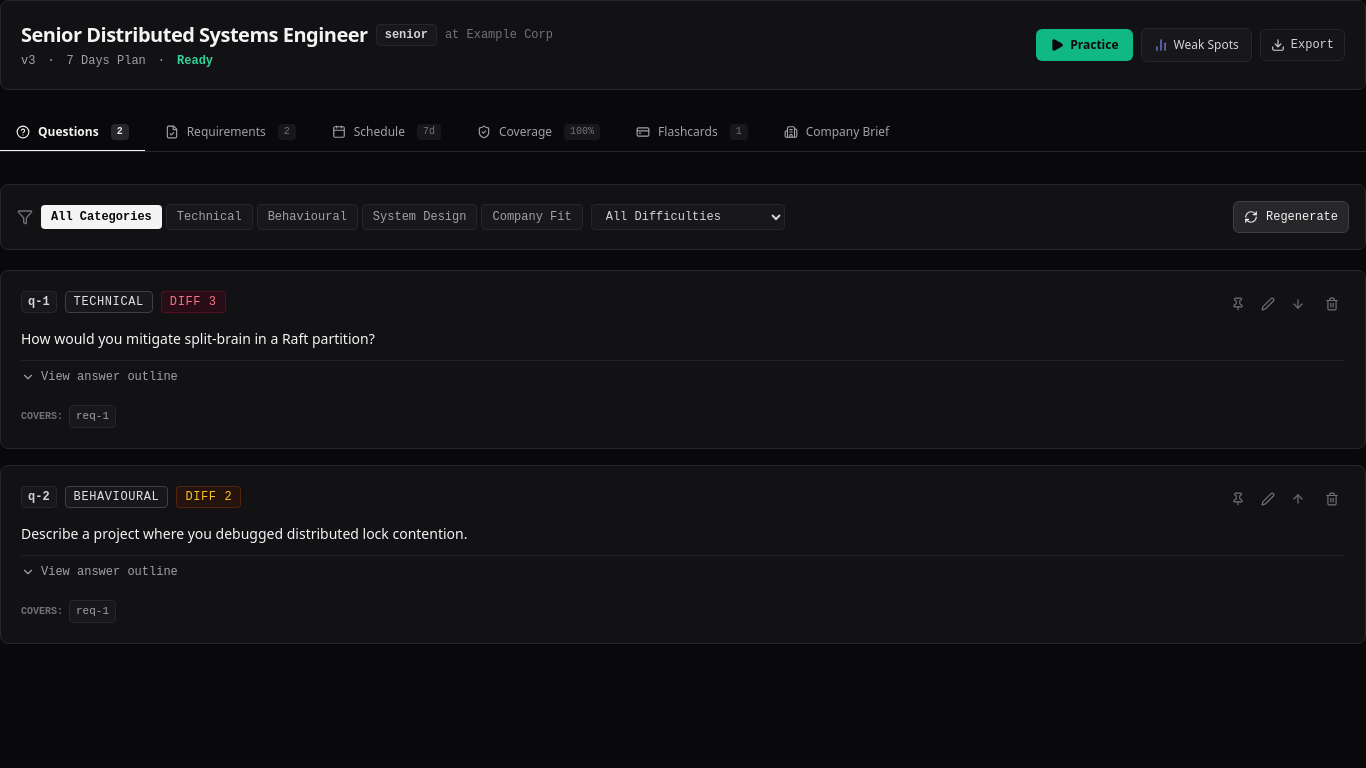
Test: KitViewer › switches tabs to Requirements, Schedule, and Company Brief
The width and height of the screenshot is (1366, 768).
Switch to Requirements tab
Step 1. Click the tab "Requirements 2" → (230, 133), box [149, 114, 312, 152]
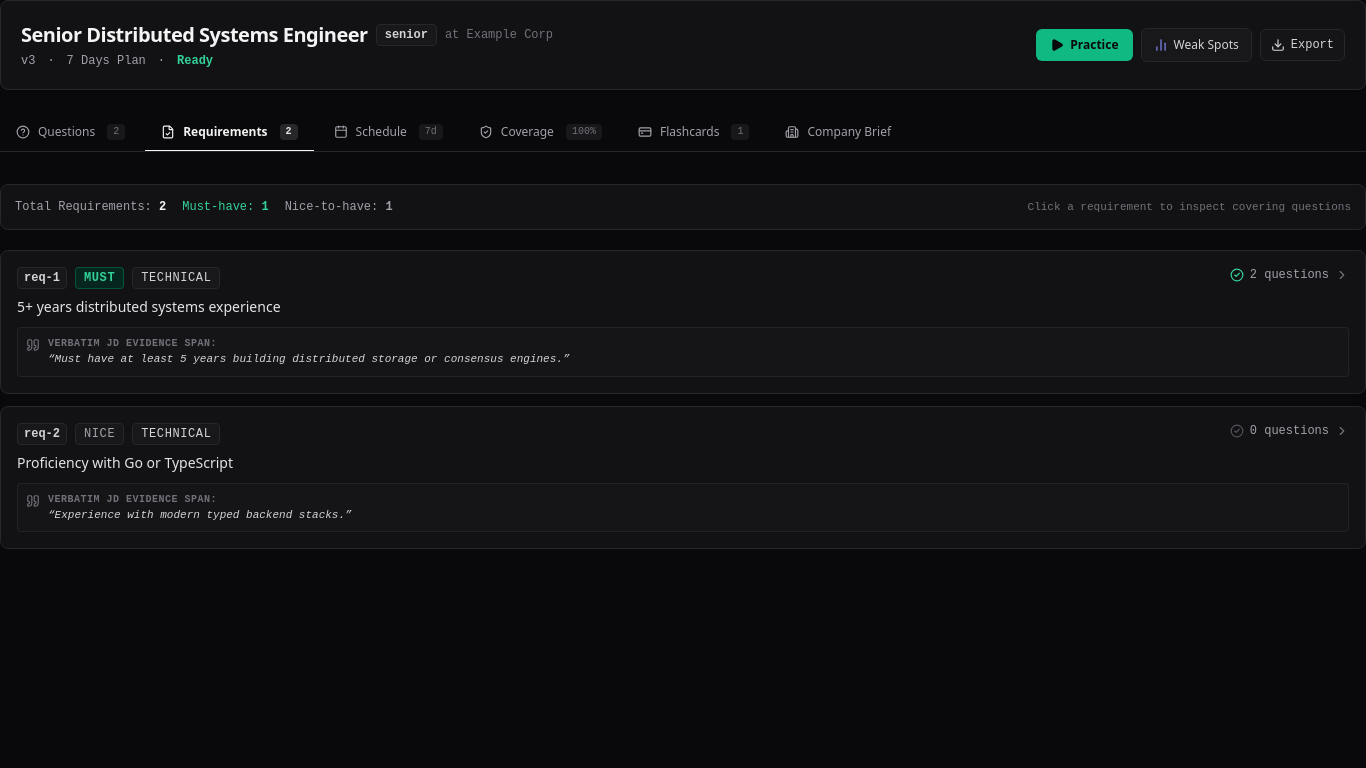
Check: the text "5+ years distributed systems experience" is shown, box [17, 297, 280, 316]
Check: the text "Must have at least 5 years building" is shown, box [55, 353, 563, 365]
Switch to Company Brief tab
Step 2. Click the tab "Company Brief" → (838, 133), box [770, 114, 907, 152]
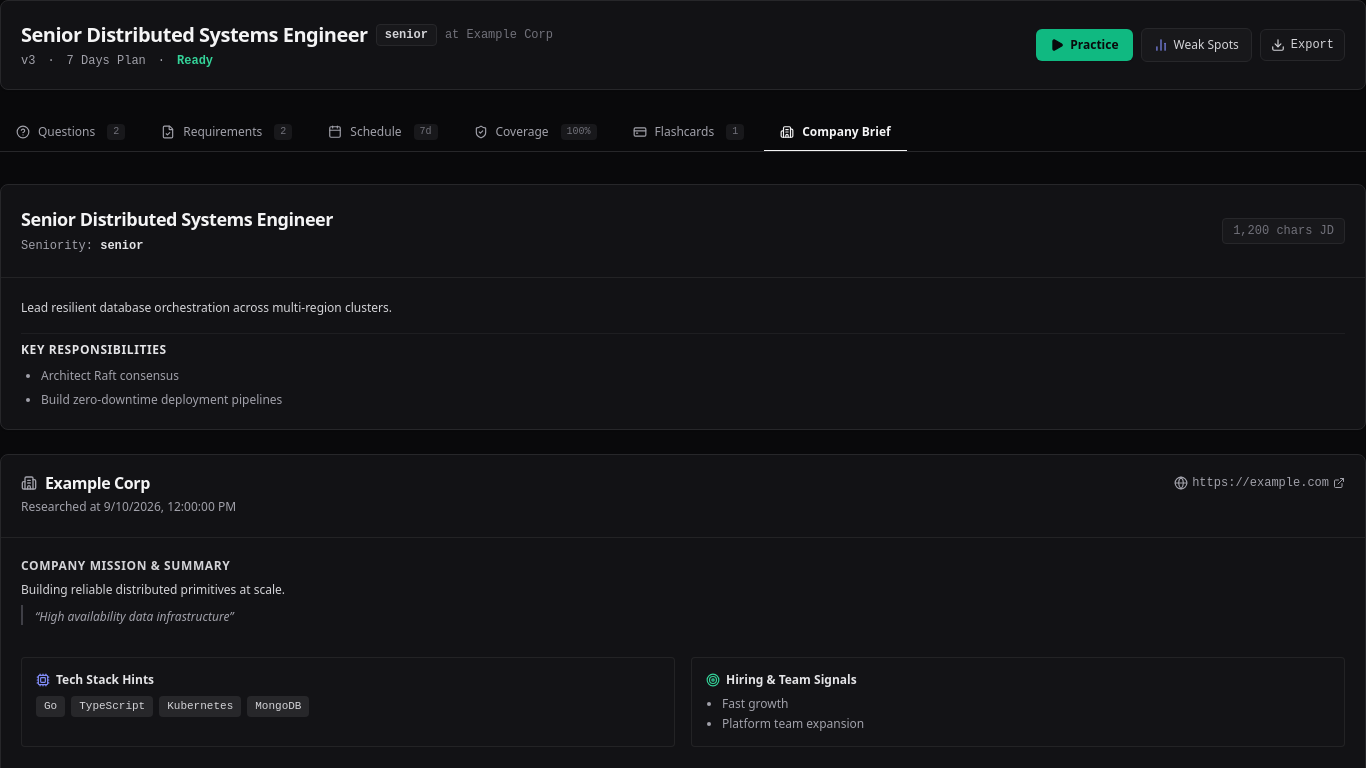
Check: the text "Building reliable distributed primitives at scale." is shown, box [21, 580, 285, 598]
